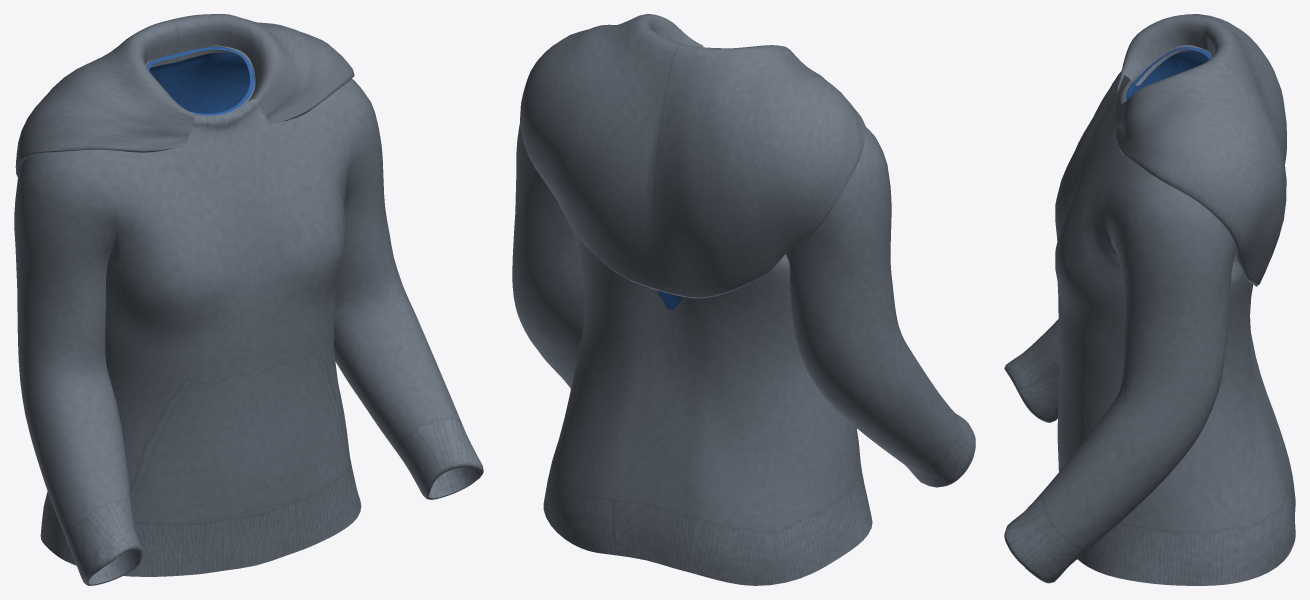
Rendered from outfits.glb.
3 views of the same model, side by side, from view 1: azimuth 30°, elevation 25°; view 2: azimuth 150°, elevation 25°; view 3: azimuth 270°, elevation 25° (orthographic). The views are drawn at different scales.
Visible parts, largest first — view 1: Cloth_hoodie, Cloth_tshirt; view 2: Cloth_hoodie; view 3: Cloth_hoodie, Cloth_tshirt.
Boxes of the visible parts, x1,y1,x2,y2 form: Cloth_hoodie: [14, 14, 483, 585]; Cloth_tshirt: [147, 46, 254, 115]; Cloth_hoodie: [512, 14, 975, 585]; Cloth_hoodie: [1004, 14, 1295, 585]; Cloth_tshirt: [1126, 47, 1211, 99].
Size of the model in its own units: 0.6006 by 0.7151 by 0.3881.
2 materials, 2 textured.
